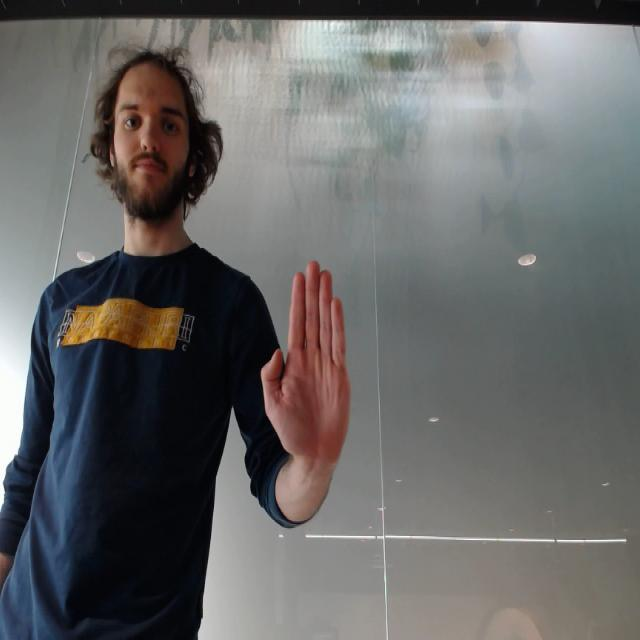backward: (256, 258, 356, 464)
